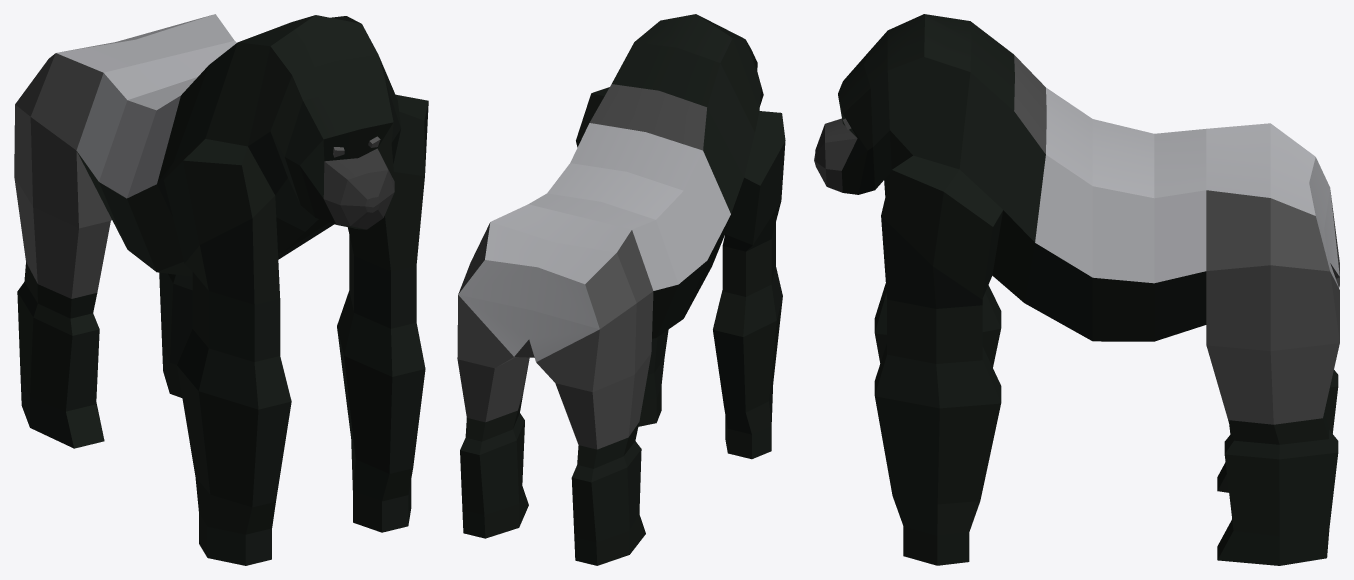
File: Mesh_Gorilla.gltf
3 renders of one model, left to right at view 1: azimuth 30°, elevation 25°; view 2: azimuth 150°, elevation 25°; view 3: azimuth 270°, elevation 25°, orthographic. The views are drawn at different scales.
Parts seen in each view (by area): view 1: node-0; view 2: node-0; view 3: node-0.
Part boxes in pixels (<box>): node-0: <box>14,14,428,565</box>; node-0: <box>457,14,785,565</box>; node-0: <box>814,14,1339,565</box>.
Size of the model in its own units: 76.84 by 157 by 149.
1 material, 1 textured.
